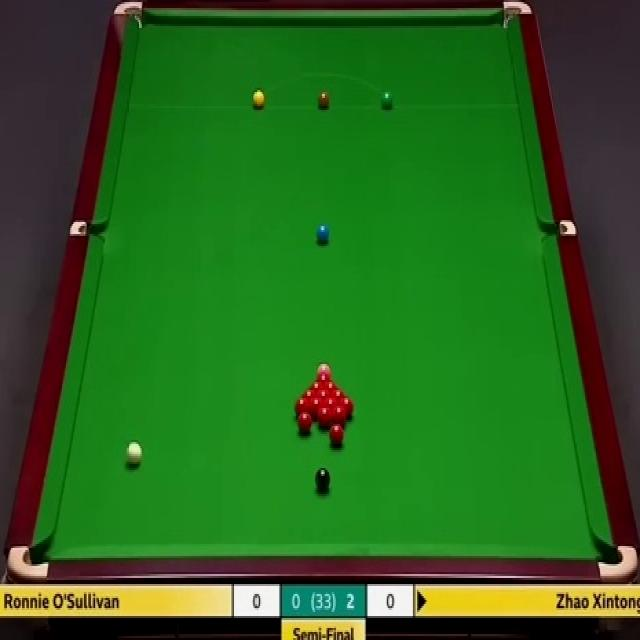black-ball: (314, 468, 332, 492)
blue-ball: (316, 222, 330, 247)
brown-ball: (317, 90, 330, 109)
green-ball: (381, 90, 394, 109)
pink-ball: (316, 362, 332, 377)
red-ball: (329, 423, 345, 448), (332, 404, 346, 427), (310, 397, 324, 419), (318, 408, 332, 429), (294, 396, 308, 416), (340, 398, 353, 419), (323, 379, 336, 399), (318, 390, 332, 408), (298, 413, 311, 432), (331, 388, 344, 406), (310, 380, 323, 397), (315, 374, 331, 387), (303, 390, 316, 403)
white-ball: (125, 440, 144, 468)
yellow-ball: (252, 90, 265, 109)
